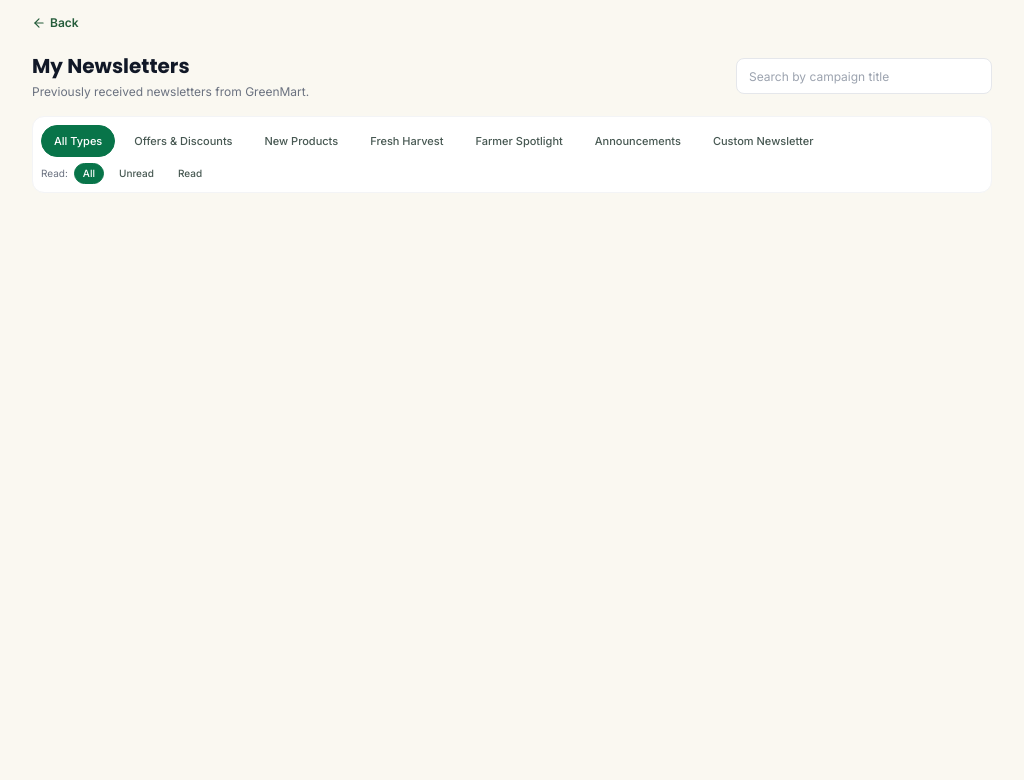
Test: My Newsletters campaign title search › debounces title search and keeps type and read filters when clearing it
The image size is (1024, 780).
Type "  dIwAlI  " into the search field labelled "Search by campaign title".
click(864, 76); type("  dIwAlI  ")  # box 736,58 -> 992,94
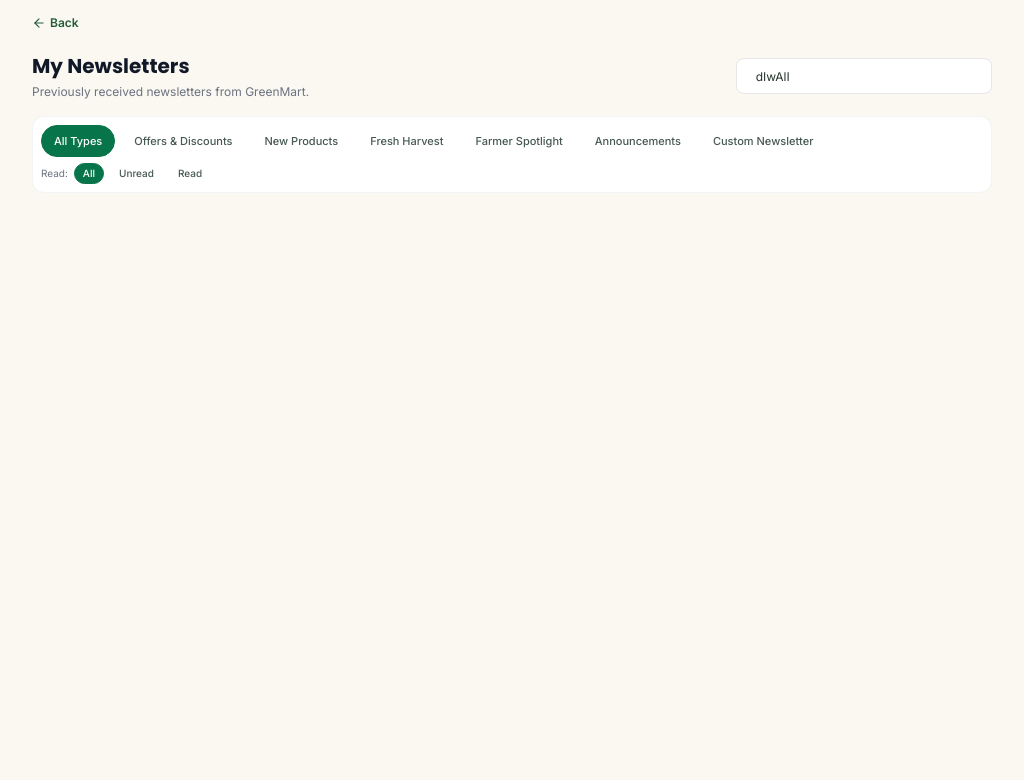
Click the button "Offers & Discounts".
click(183, 141)  # box 121,125 -> 246,157
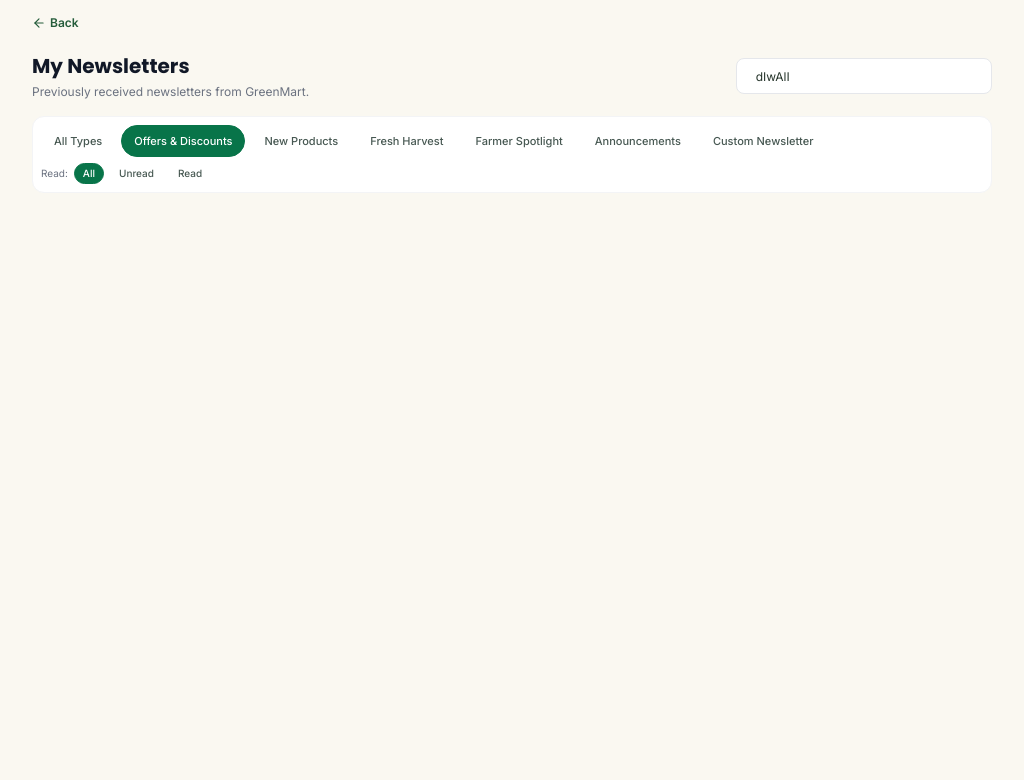
Click the button "Unread".
click(136, 174)  # box 110,163 -> 163,184
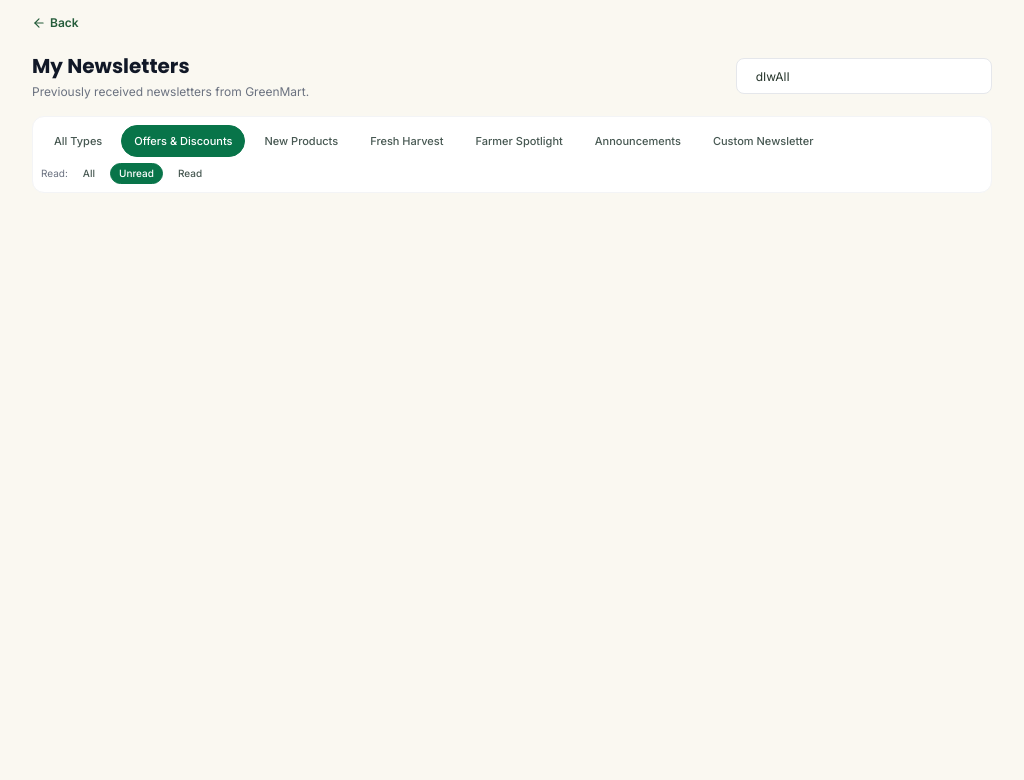
Clear the search field named "Search by campaign title" at (864,76), box 736,58 -> 992,94
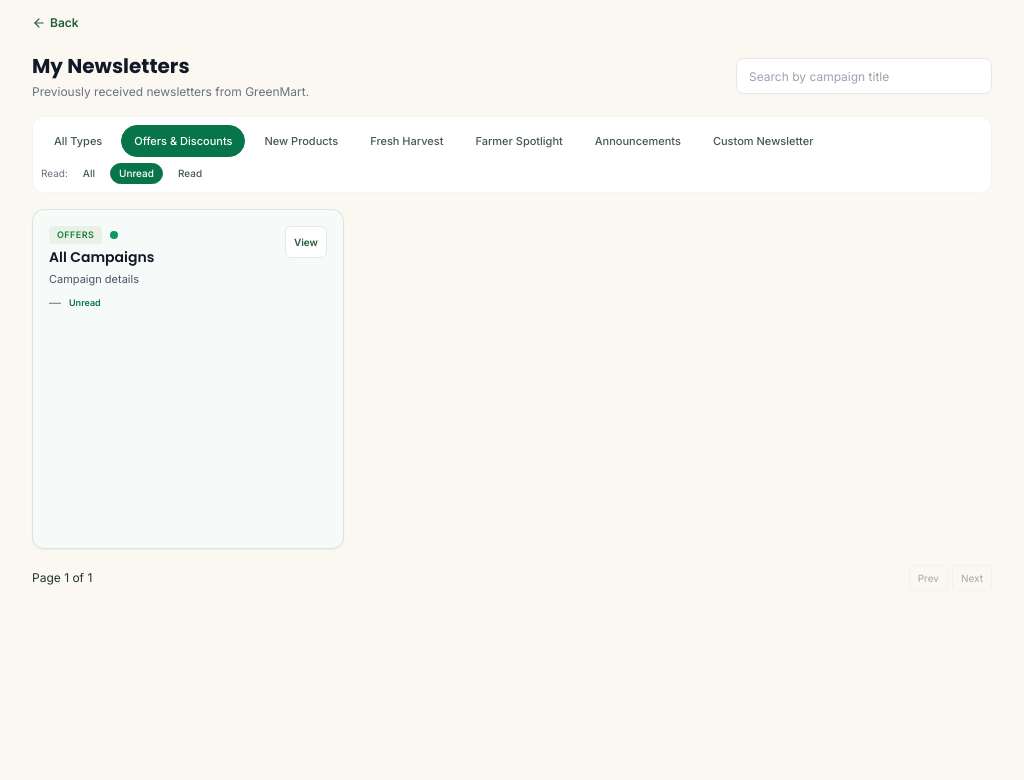
Now the heading "All Campaigns" is shown, box 49,246 -> 154,266
